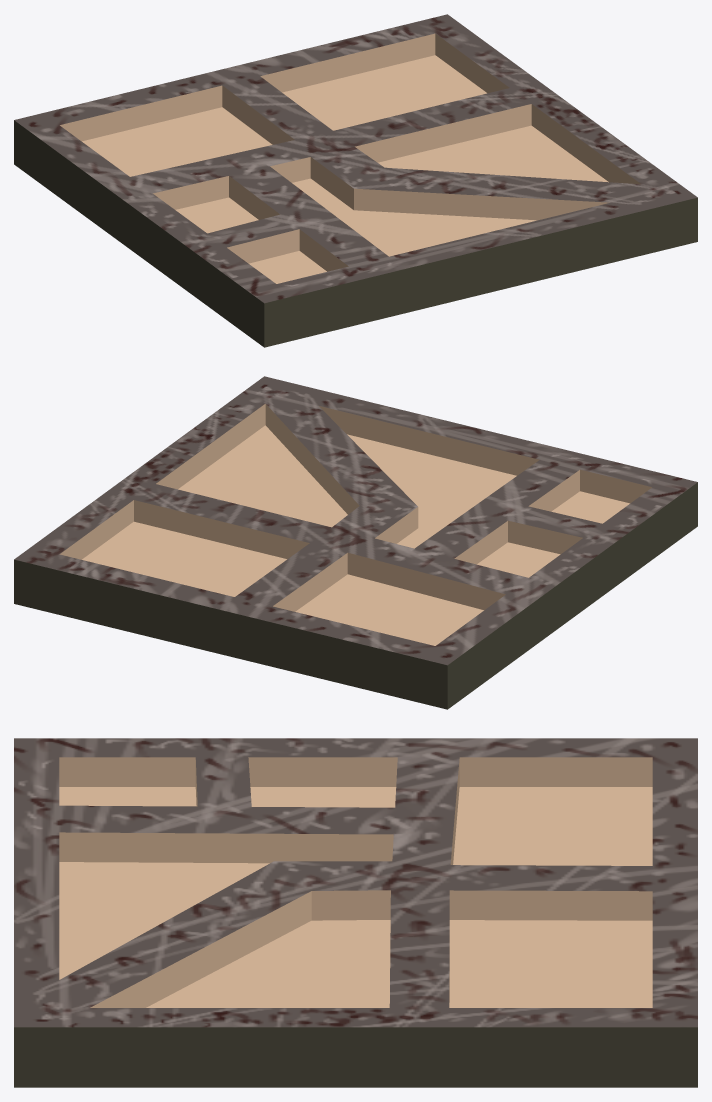
File: house_cutout.fbx
The picture shows the model from 3 angles, top to bottom: view 1: azimuth 30°, elevation 25°; view 2: azimuth 150°, elevation 25°; view 3: azimuth 270°, elevation 25°; orthographic projection. The views are drawn at different scales.
Parts seen in each view (by area): view 1: cutthrough_house_base; view 2: cutthrough_house_base; view 3: cutthrough_house_base.
Part boxes in pixels (box(x1,y1,x2,y2)): cutthrough_house_base: box(14, 14, 697, 347); cutthrough_house_base: box(14, 376, 697, 709); cutthrough_house_base: box(14, 738, 697, 1087).
Size of the model in its own units: 4000 by 391 by 4000.
